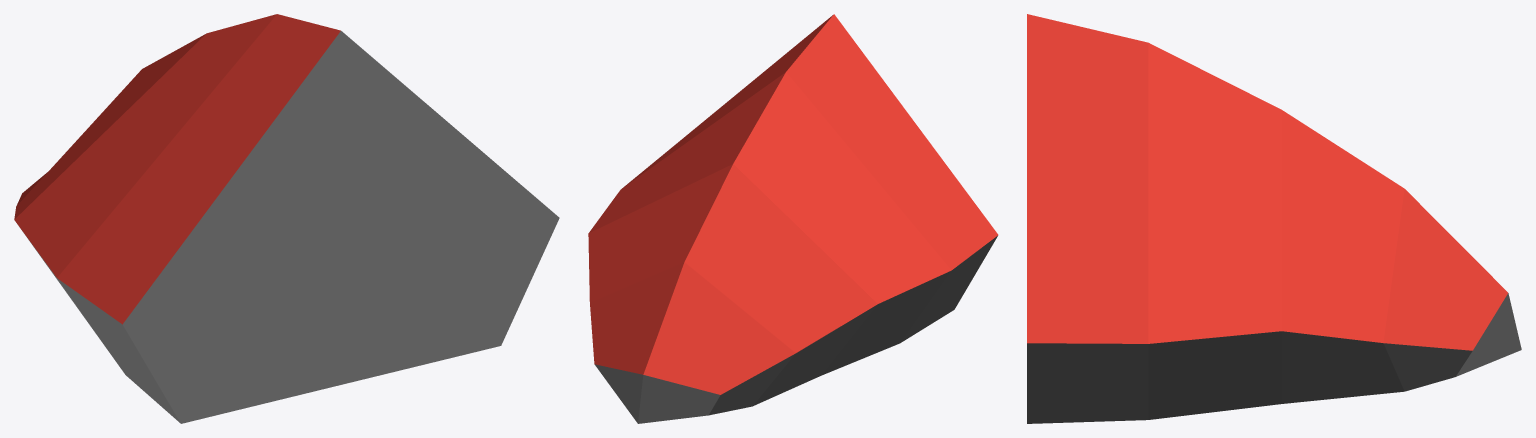
The model's file is Snake_Tail.fbx.
The picture shows the model from 3 angles, left to right: view 1: azimuth 30°, elevation 25°; view 2: azimuth 150°, elevation 25°; view 3: azimuth 270°, elevation 25°; orthographic projection. The views are drawn at different scales.
Parts seen in each view (by area): view 1: Tail; view 2: Tail; view 3: Tail.
Boxes of the visible parts, x1,y1,x2,y2 form: Tail: (14, 14, 559, 423); Tail: (588, 14, 998, 423); Tail: (1027, 14, 1521, 423).
Size of the model in its own units: 215 by 165 by 221.
